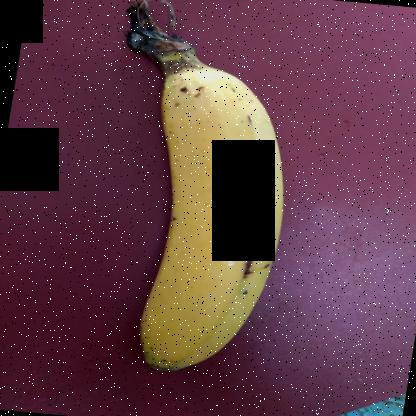freshripe: (118, 63, 302, 398)
